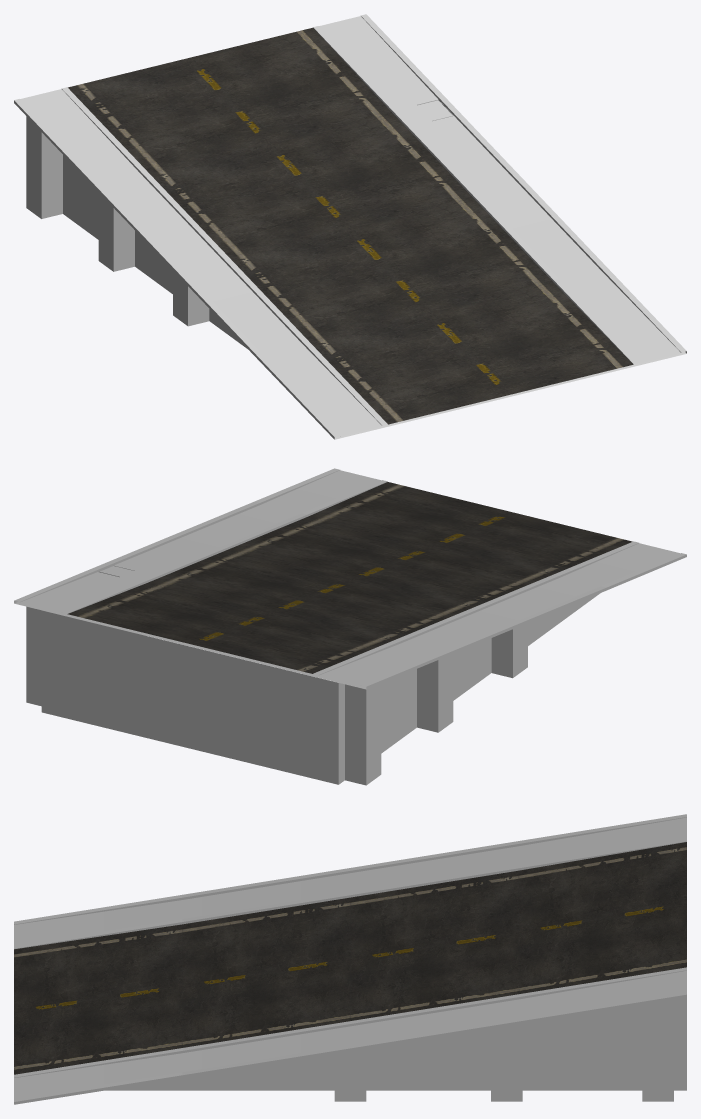
Rendered from BridgeSlope_Small.fbx.
The picture shows the model from 3 angles, top to bottom: view 1: azimuth 30°, elevation 25°; view 2: azimuth 150°, elevation 25°; view 3: azimuth 270°, elevation 25°; orthographic projection. The views are drawn at different scales.
Visible parts, largest first — view 1: BridgeSlope_Small; view 2: BridgeSlope_Small; view 3: BridgeSlope_Small.
Boxes of the visible parts, box(x1,y1,x2,y2) form: BridgeSlope_Small: box(14, 14, 686, 439); BridgeSlope_Small: box(14, 468, 686, 785); BridgeSlope_Small: box(14, 814, 686, 1104).
Size of the model in its own units: 1500 by 427 by 2364.
